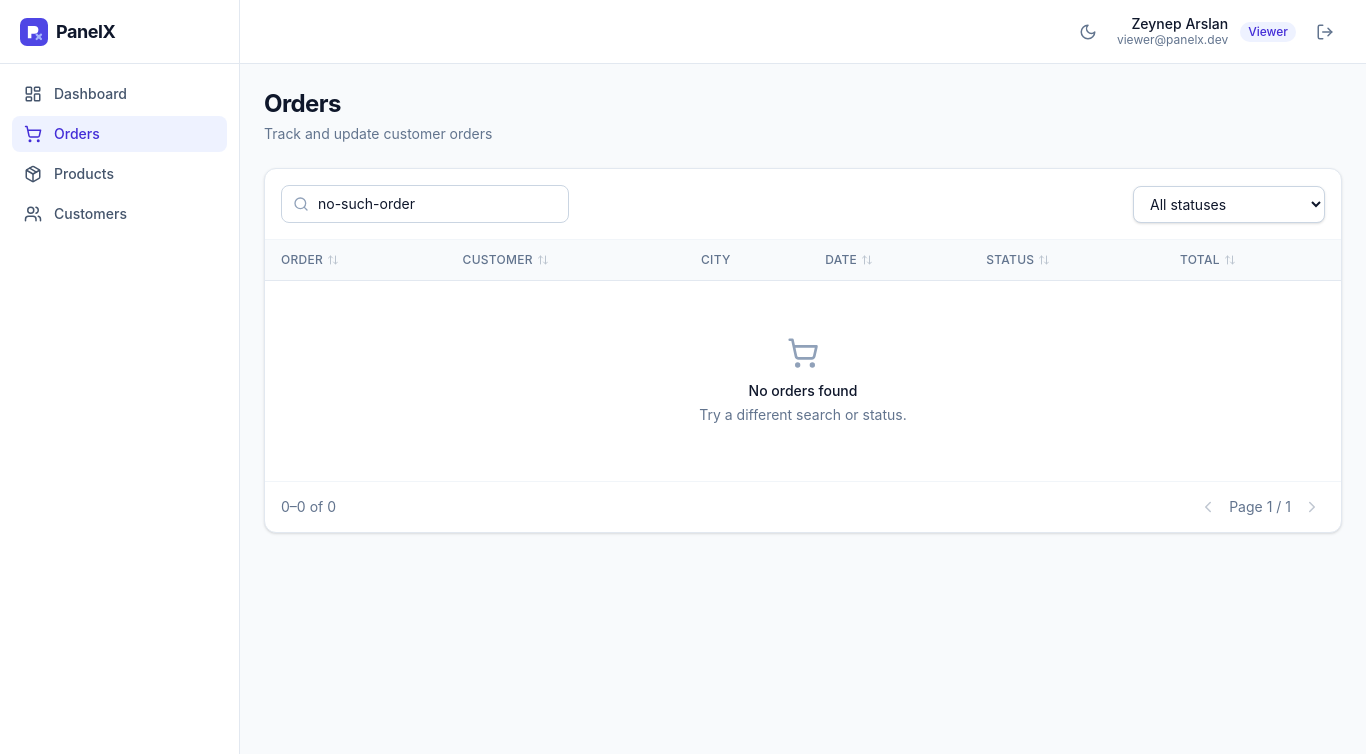
Test case: orders › empties the search box when the filter is reset from outside
The width and height of the screenshot is (1366, 754).
Expected: the search field named "Search order, customer or city" holds "no-such-order", [281, 185, 569, 223]
Expected: the text "No orders found" is shown, [749, 381, 857, 401]
# The sidebar link opens /orders without any filter
Step 1. Click the link "Orders" → [120, 134], box [12, 116, 227, 152]
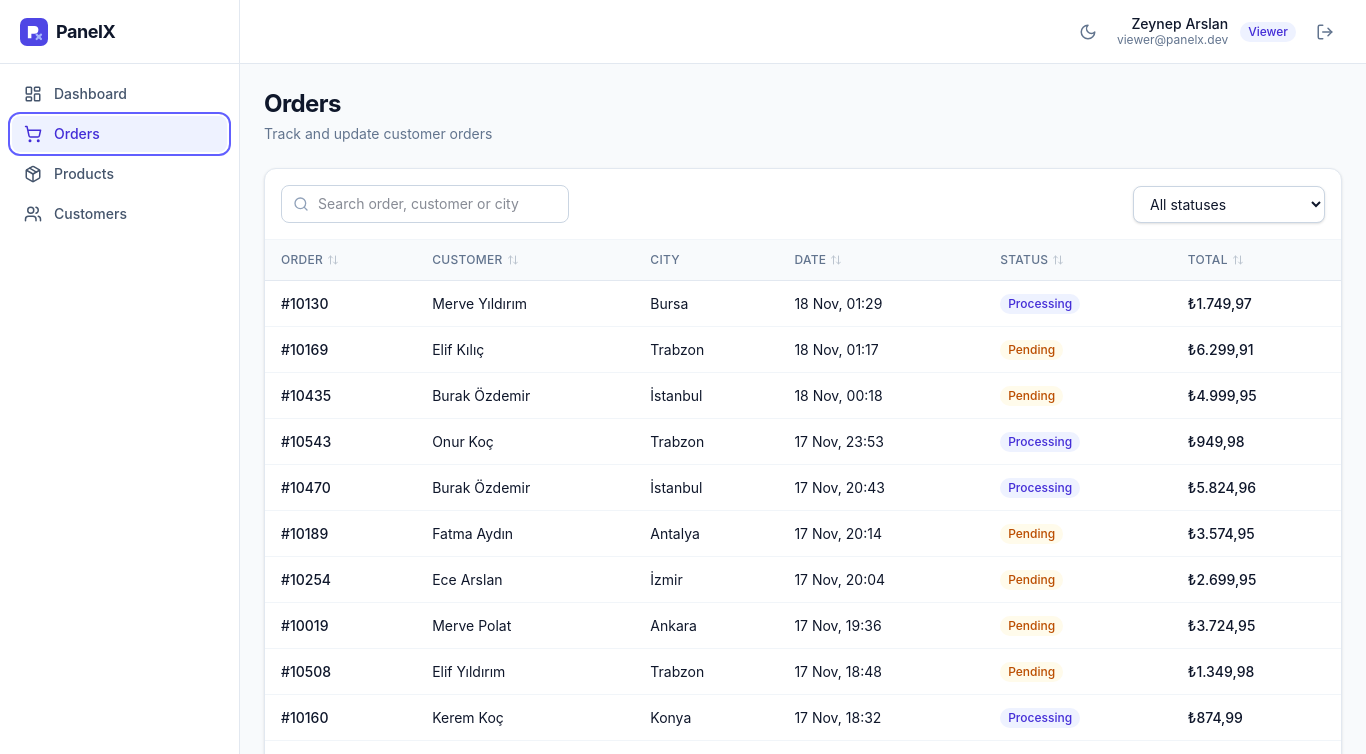
Expected: the search field labelled "Search order, customer or city" is empty, [281, 185, 569, 223]
Expected: the text "No orders found" is gone
